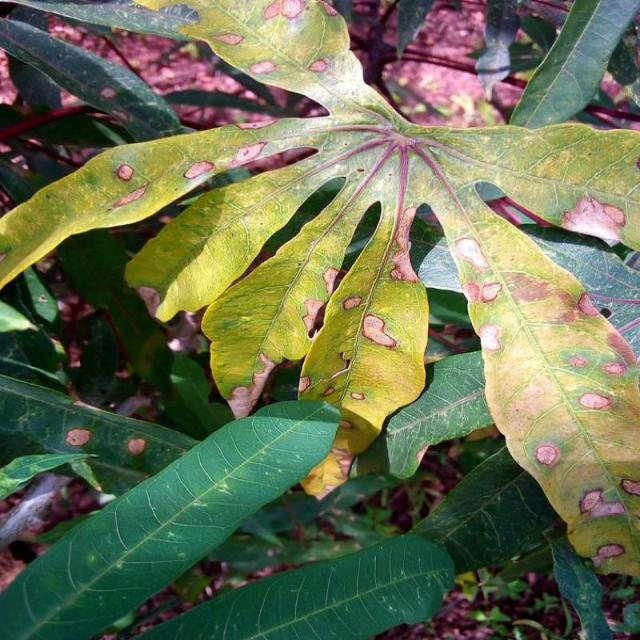cassava leaf: (1, 1, 638, 612), (0, 397, 342, 638)
